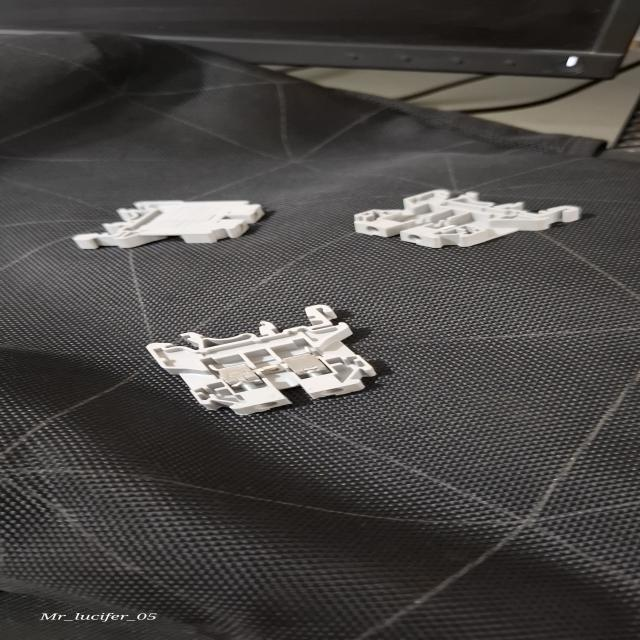Inverted: (71, 200, 271, 244)
Pass: (141, 303, 382, 416)
Reject: (345, 188, 588, 247)
